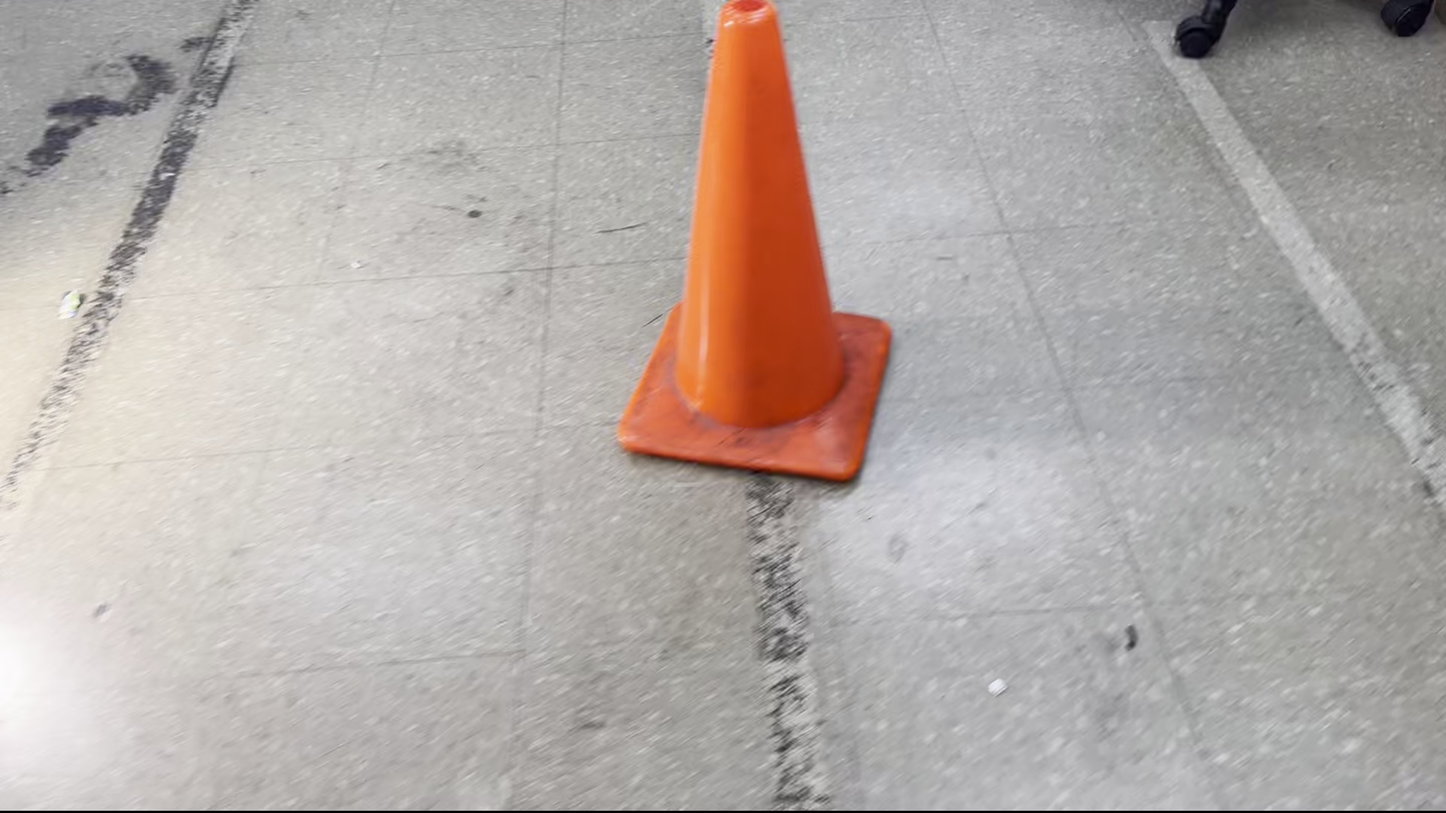traffic_cone: (615, 0, 893, 483)
